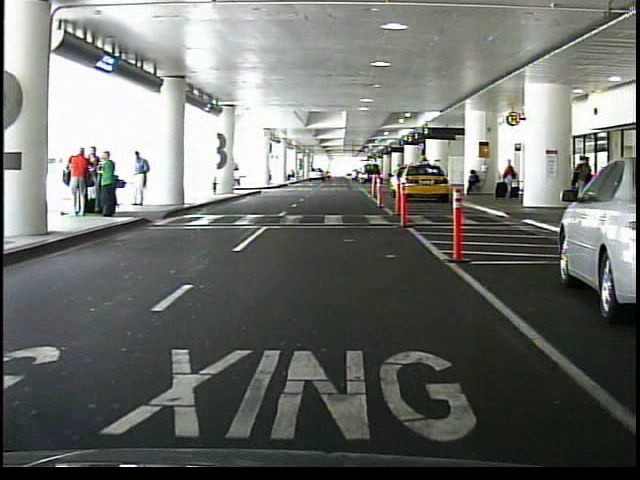person: (69, 143, 92, 217), (101, 152, 121, 221), (131, 151, 152, 210), (573, 154, 595, 209), (90, 146, 105, 211), (502, 160, 518, 202), (464, 170, 481, 198)
